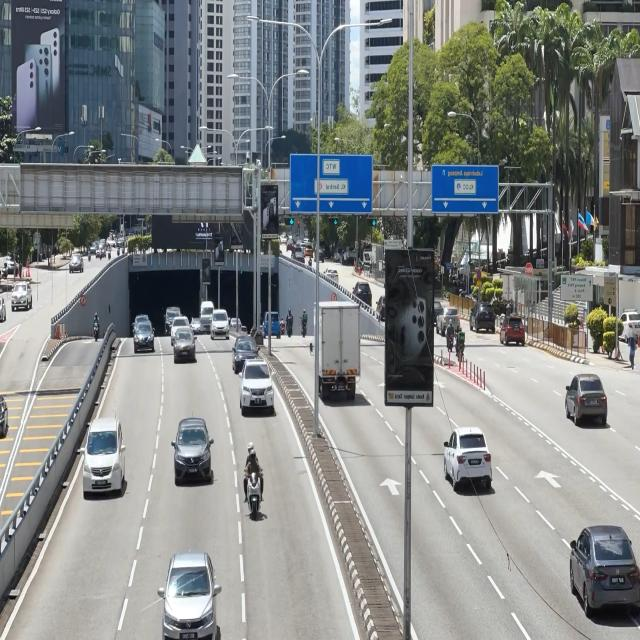Vehicle: (566, 524, 636, 616), (311, 296, 364, 404), (161, 552, 221, 640), (81, 411, 128, 501), (442, 424, 494, 499), (172, 412, 211, 488), (562, 376, 608, 431), (237, 356, 276, 418), (230, 333, 260, 374), (470, 295, 498, 337), (499, 309, 528, 347), (172, 330, 196, 363), (131, 323, 154, 353), (436, 306, 461, 333), (210, 311, 230, 342)
